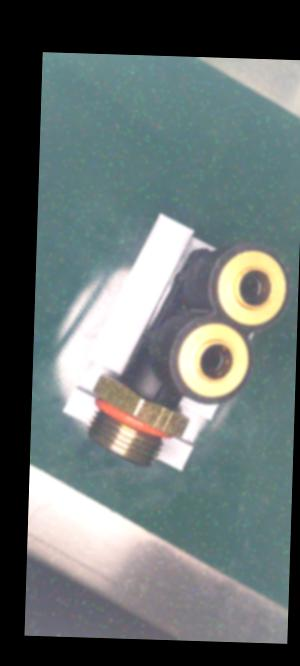craze: (151, 377, 167, 403)
